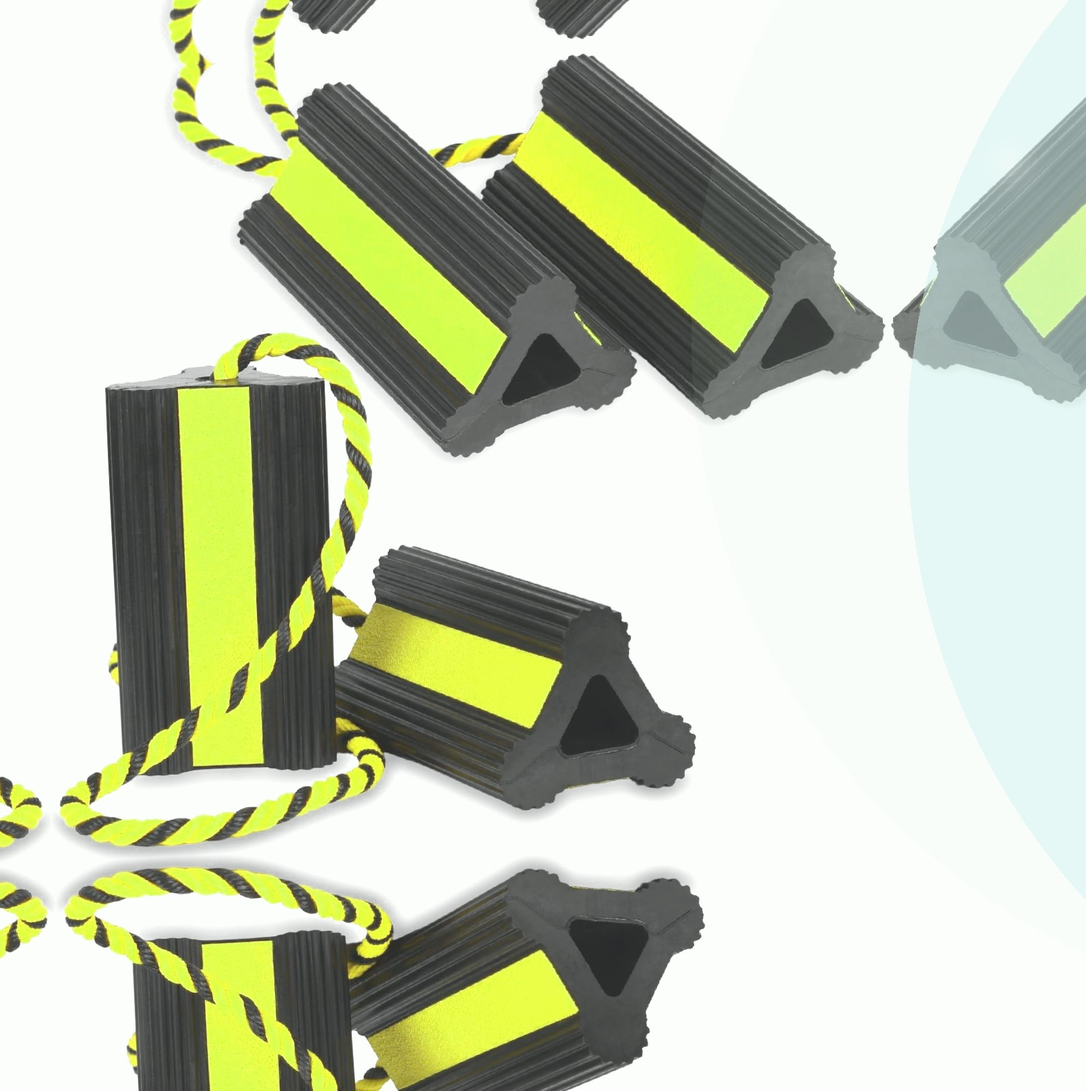chock: (473, 38, 890, 445), (229, 68, 641, 474), (320, 528, 698, 824), (91, 359, 346, 780), (336, 856, 714, 1091), (878, 19, 1086, 426), (119, 928, 373, 1091)
